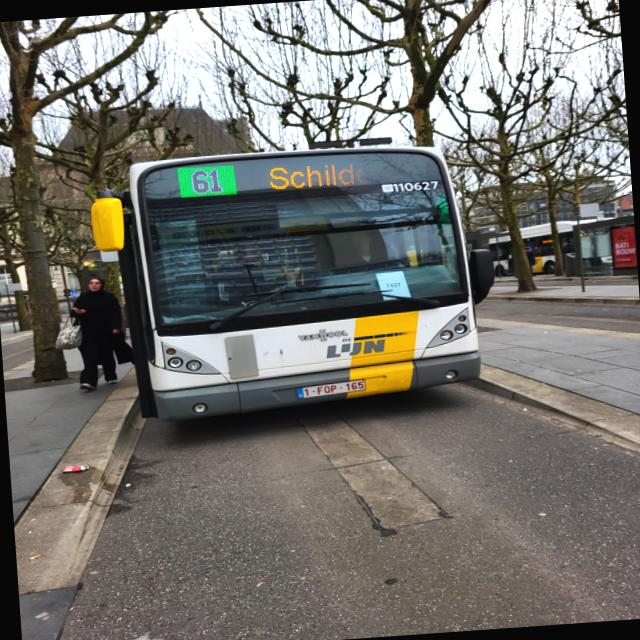bus-number: (176, 165, 237, 198)
